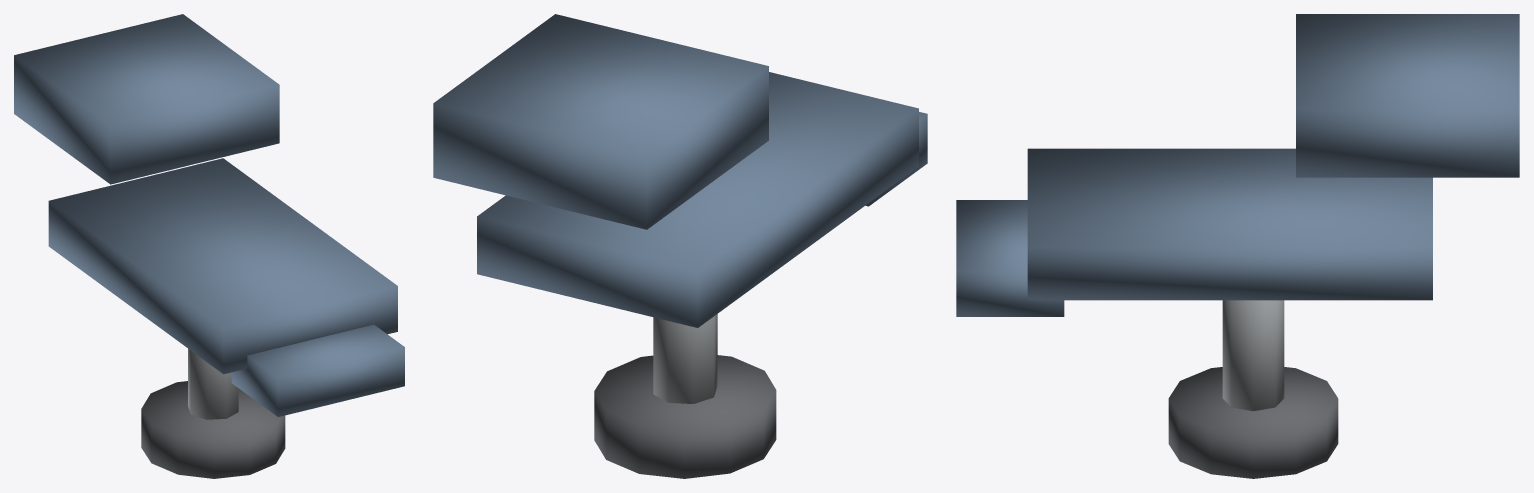
File: dentist_chair__compact.glb
3 views of the same model, side by side, from view 1: azimuth 30°, elevation 25°; view 2: azimuth 150°, elevation 25°; view 3: azimuth 270°, elevation 25° (orthographic). The views are drawn at different scales.
Parts seen in each view (by area): view 1: world; view 2: world; view 3: world.
Part boxes in pixels (left/top/right/bottom): world: left=14, top=14, right=404, bottom=478; world: left=433, top=14, right=927, bottom=478; world: left=956, top=14, right=1519, bottom=478.
Size of the model in its own units: 0.5208 by 0.9393 by 1.26.
